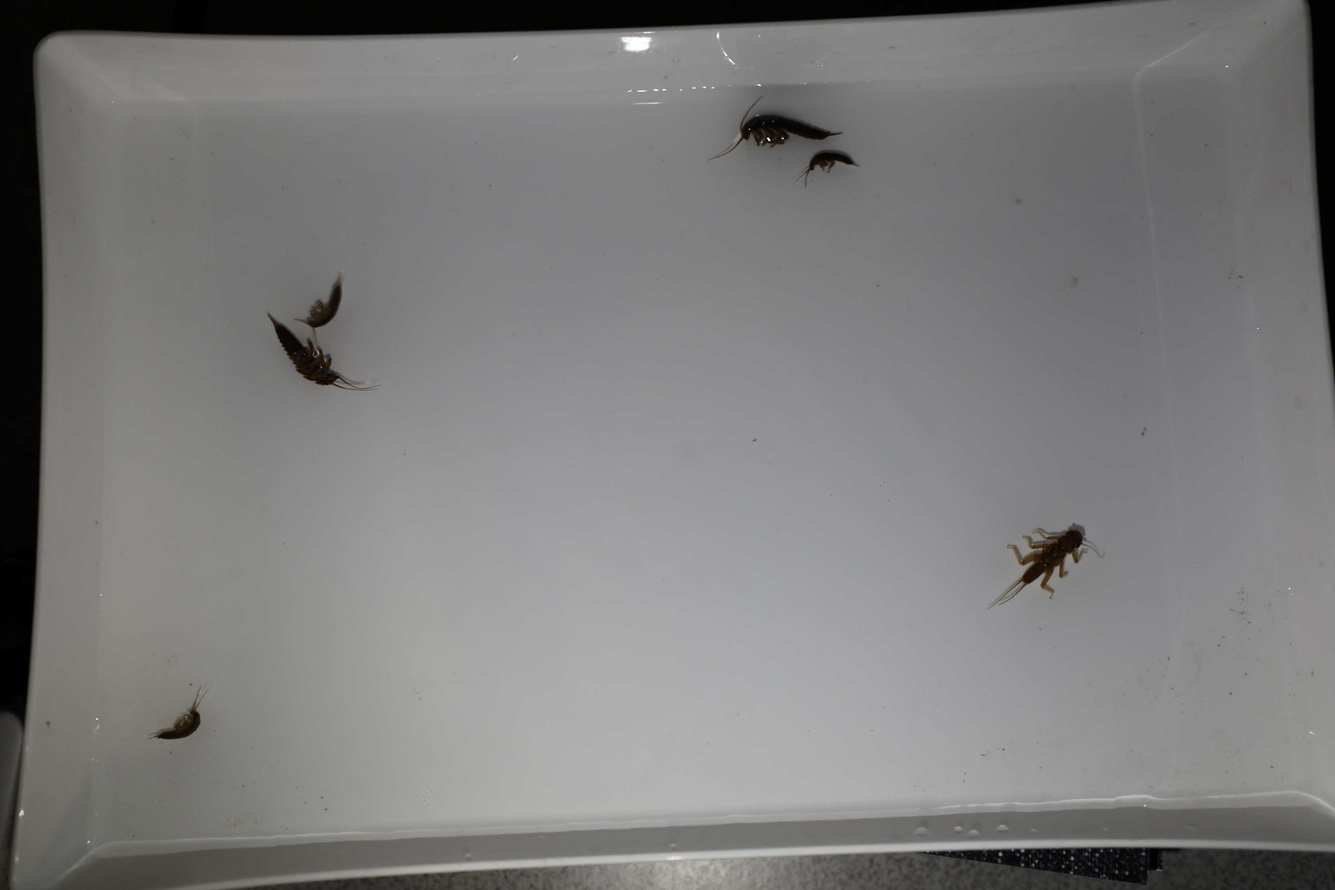Stonefly: (986, 523, 1106, 618), (266, 307, 378, 393), (712, 102, 837, 167), (145, 685, 211, 746), (297, 271, 347, 342), (793, 149, 865, 196)
